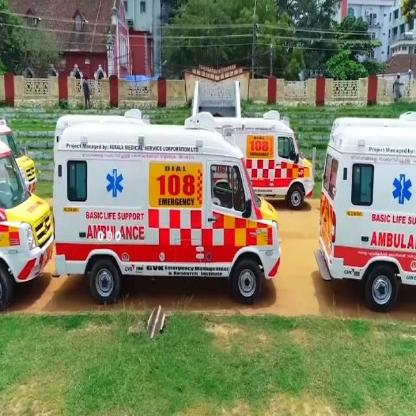priority: (53, 120, 281, 302), (320, 112, 416, 312), (211, 110, 315, 208), (0, 136, 52, 306)
